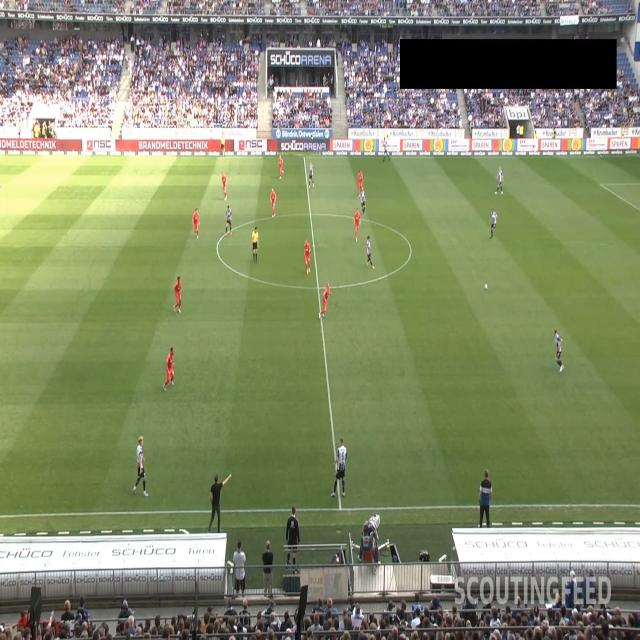ball: (484, 282, 488, 290)
